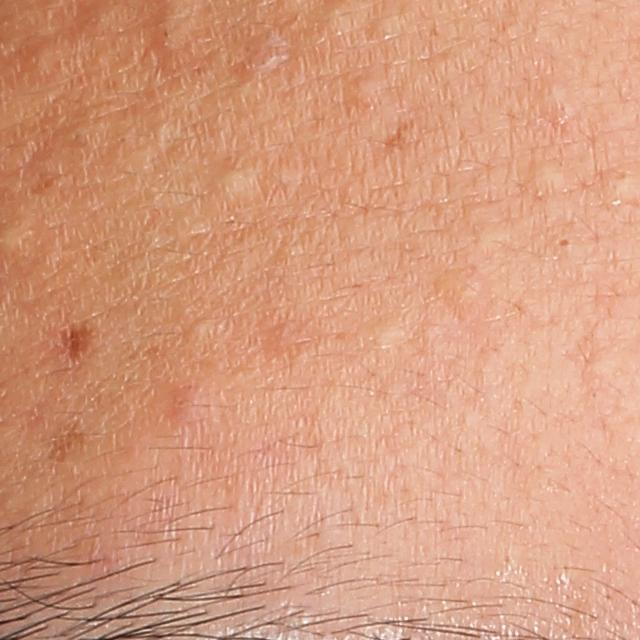comedo: (238, 37, 294, 80), (340, 69, 385, 113), (529, 158, 574, 195), (359, 317, 411, 348), (24, 38, 57, 84), (535, 80, 569, 116), (215, 165, 251, 198), (183, 312, 216, 340), (369, 12, 401, 39), (553, 231, 576, 259)
